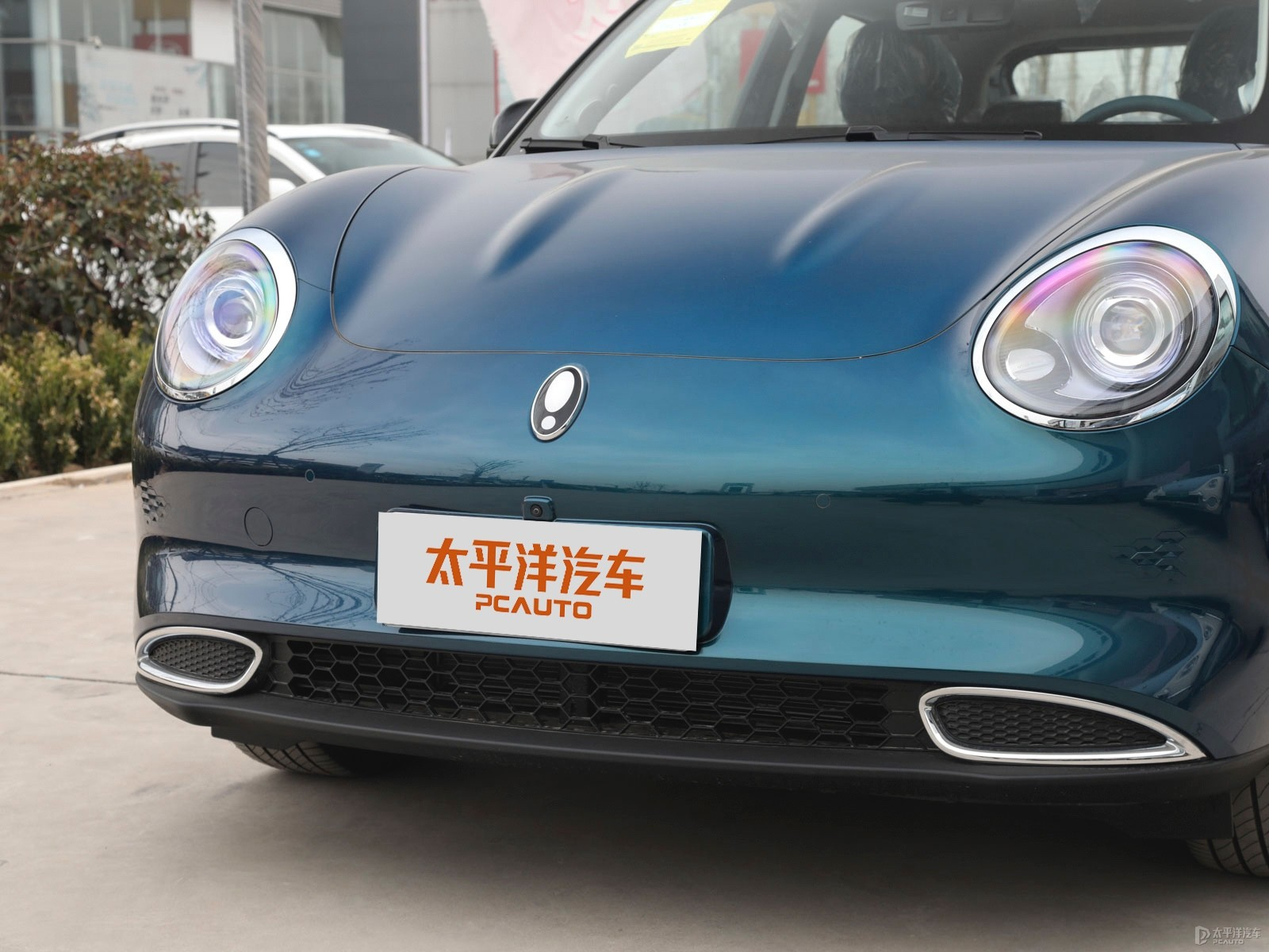ORA: (531, 367, 584, 440)
